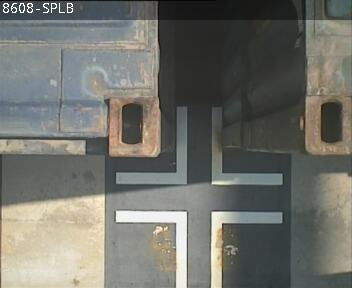groundmarker_1: (116, 209, 282, 288), (116, 107, 282, 185)
